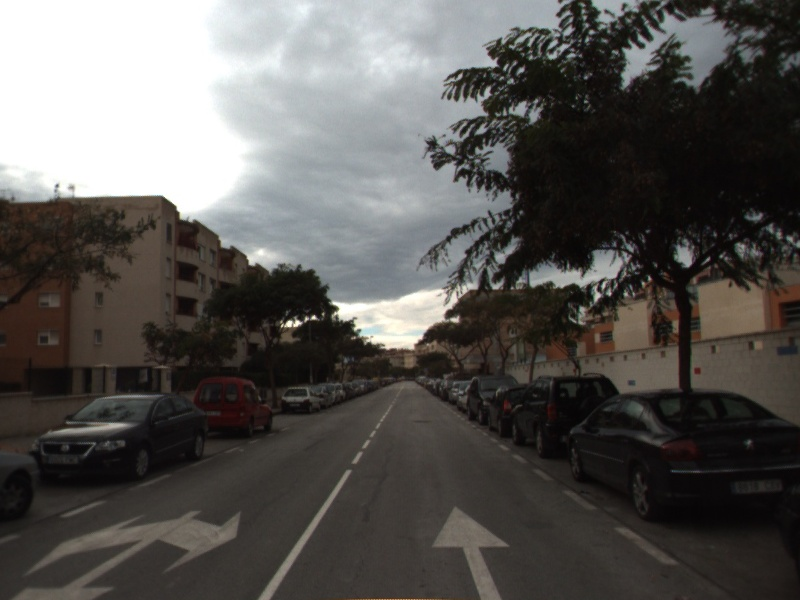STRAIGHT: (429, 503, 513, 600)
